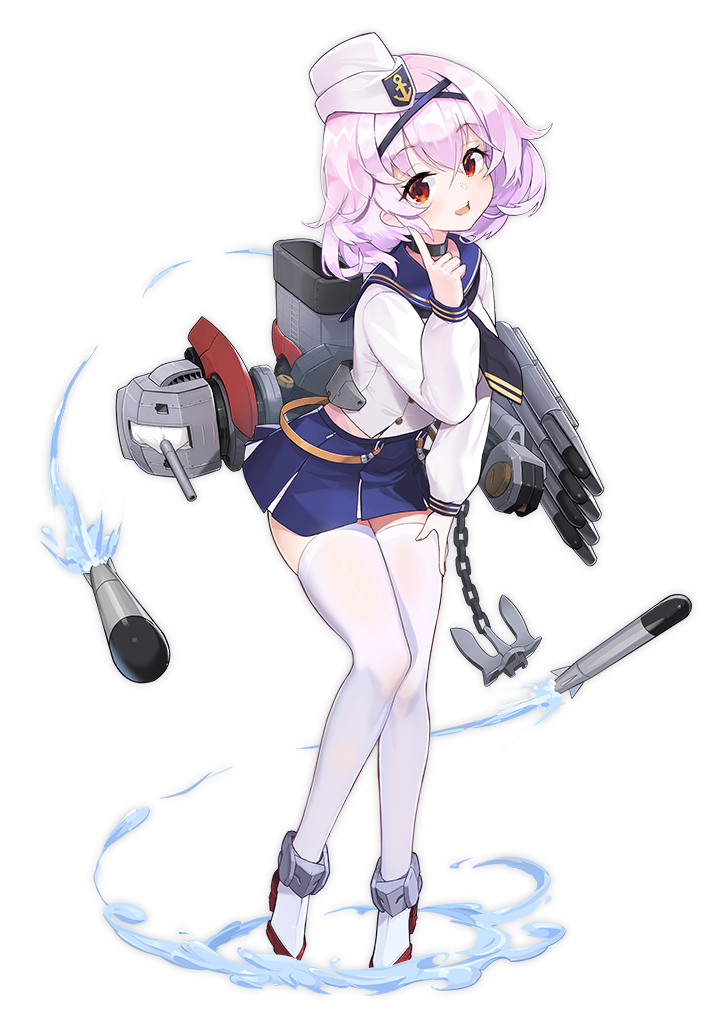person: (132, 42, 620, 787)
